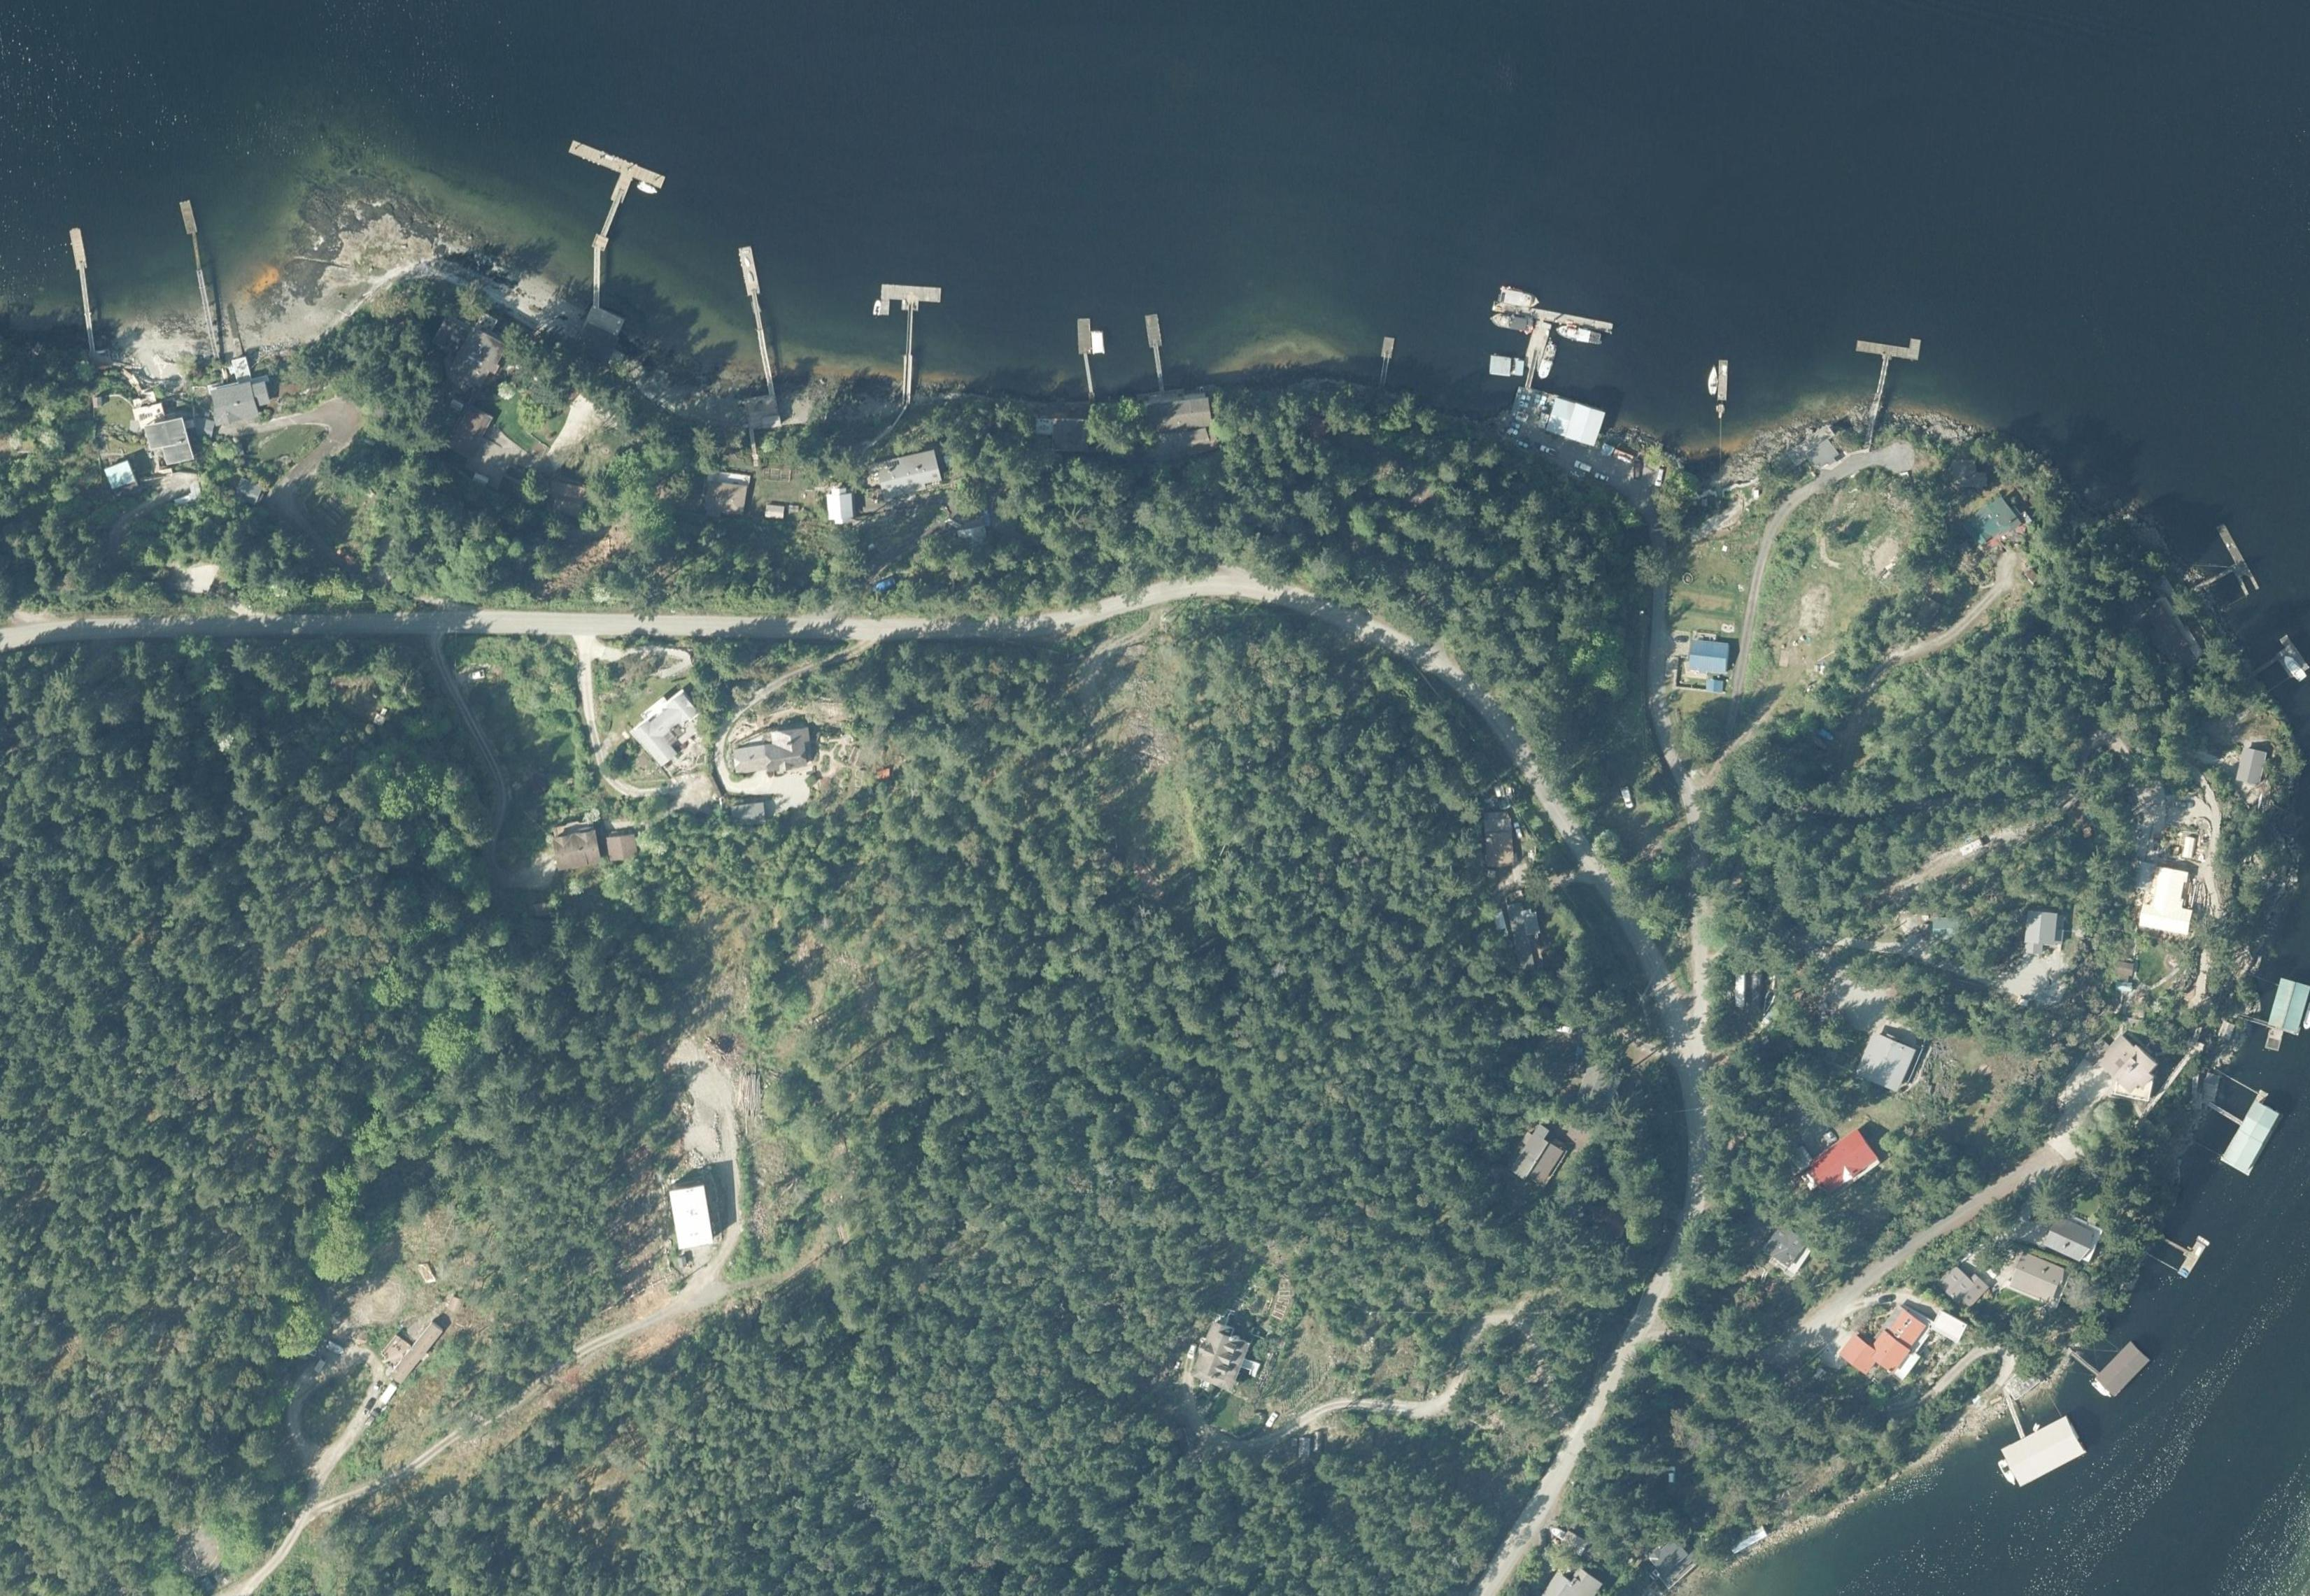harbor: (532, 140, 667, 266), (1472, 290, 1614, 406), (2192, 1069, 2290, 1177), (1987, 1384, 2088, 1488), (871, 283, 941, 401), (172, 199, 224, 338), (2181, 523, 2260, 611), (1845, 329, 1922, 413), (2071, 1323, 2153, 1400), (738, 247, 779, 392), (69, 227, 102, 351), (2150, 1220, 2211, 1281), (1074, 315, 1111, 399), (1145, 315, 1168, 392), (1715, 361, 1728, 448), (1375, 336, 1395, 388)
ship: (1554, 322, 1605, 348), (1487, 311, 1534, 335), (1496, 285, 1540, 309), (2280, 653, 2310, 685), (1536, 341, 1559, 380), (1489, 355, 1525, 378), (1995, 1458, 2018, 1487), (2088, 1376, 2114, 1402), (636, 180, 660, 197), (323, 1340, 347, 1358), (1090, 331, 1105, 357), (1708, 365, 1718, 396), (467, 668, 486, 682), (872, 299, 882, 316), (2032, 1421, 2041, 1432)
